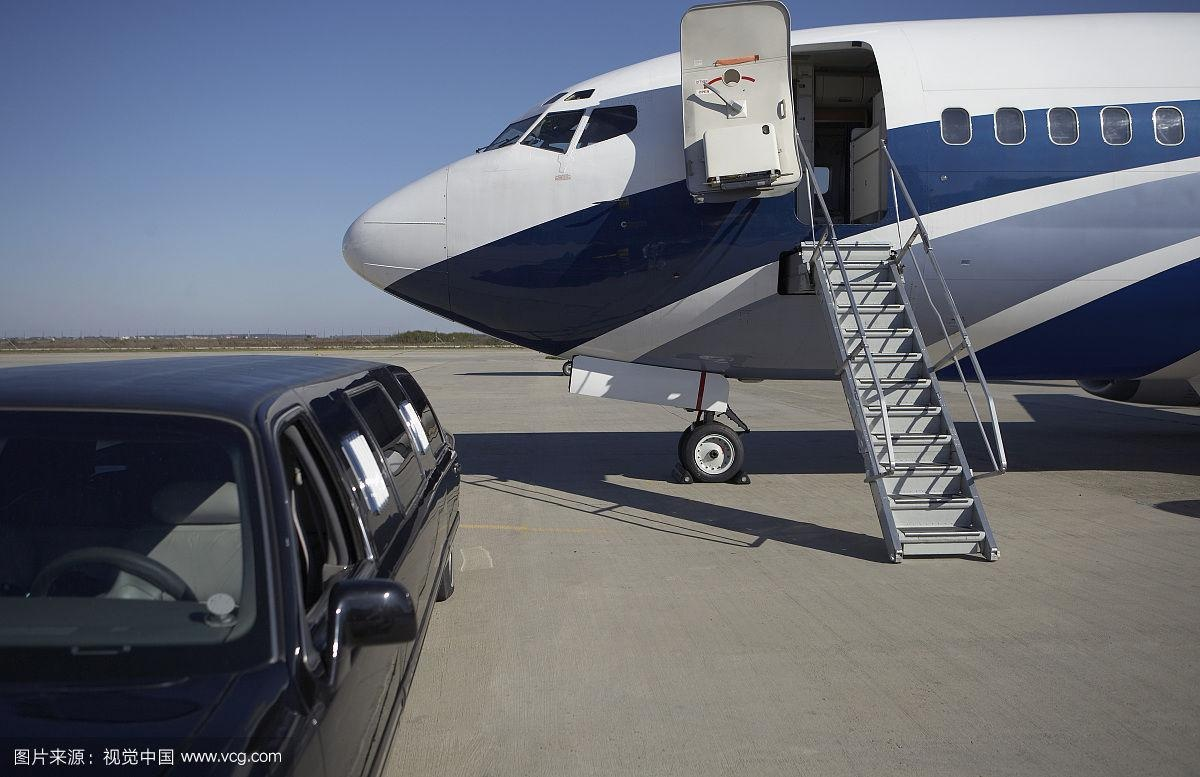airplane: (335, 13, 1200, 431)
